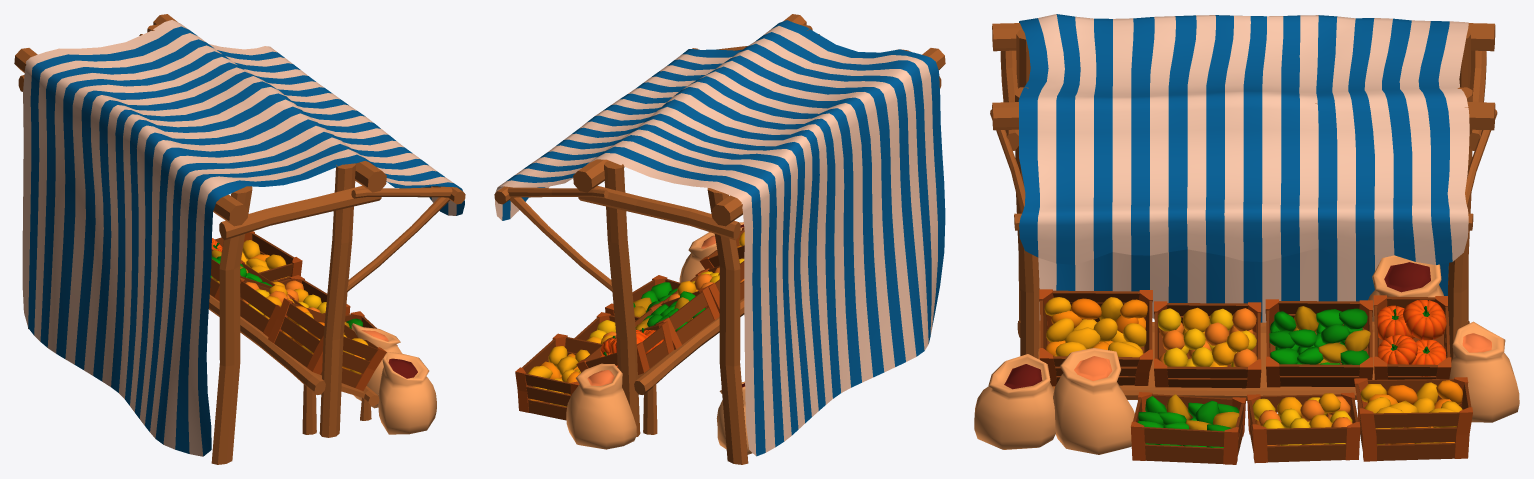
Rendered from Stall.fbx.
3 renders of one model, left to right at view 1: azimuth 30°, elevation 25°; view 2: azimuth 150°, elevation 25°; view 3: azimuth 270°, elevation 25°, orthographic. The views are drawn at different scales.
Visible parts, largest first — view 1: Cube.057; view 2: Cube.057; view 3: Cube.057.
Part boxes in pixels (bbox=[...]): Cube.057: bbox=[14, 14, 465, 464]; Cube.057: bbox=[494, 14, 945, 464]; Cube.057: bbox=[974, 14, 1519, 464].
Bounding box in the file's own units: 182 × 178 × 272.
